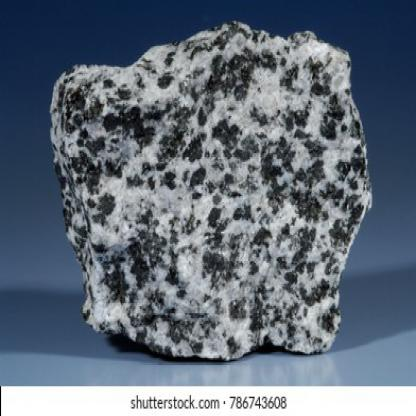Igneous_Diorite: (134, 65, 342, 351)
